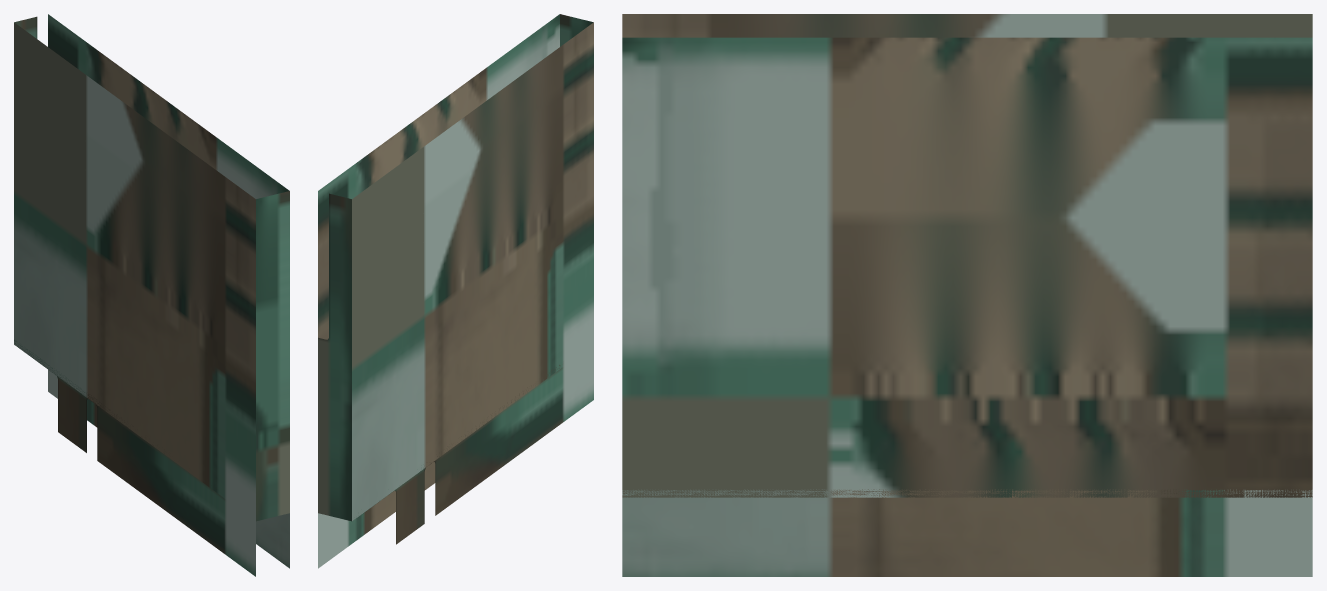
File: section-4.obj
3 renders of one model, left to right at view 1: azimuth 30°, elevation 25°; view 2: azimuth 150°, elevation 25°; view 3: azimuth 270°, elevation 25°, orthographic. The views are drawn at different scales.
Size of the model in its own units: 0.094 by 1 by 1.16.
